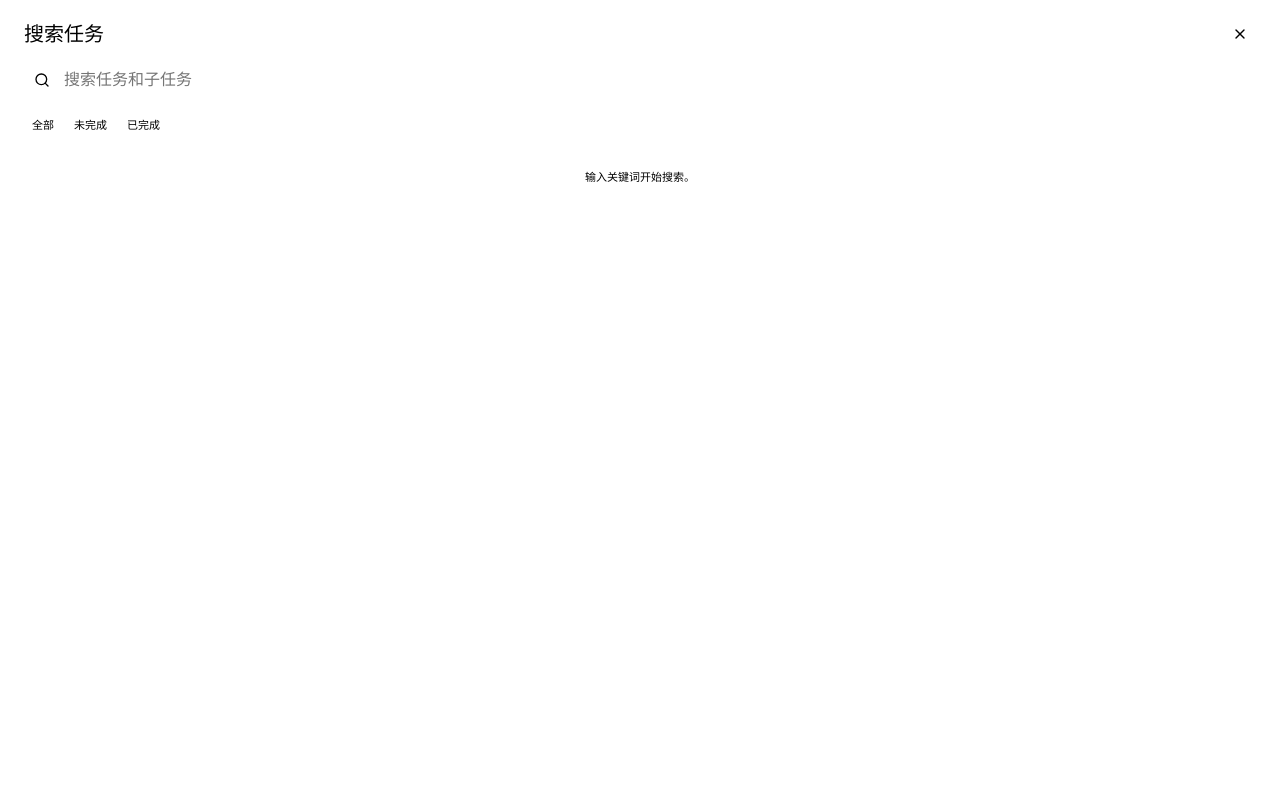
Test: TaskSearchDialog › filters matching results to unfinished work
The width and height of the screenshot is (1280, 800).
Type "工作" into the search field at (639, 80), box [62,70,1216,90]
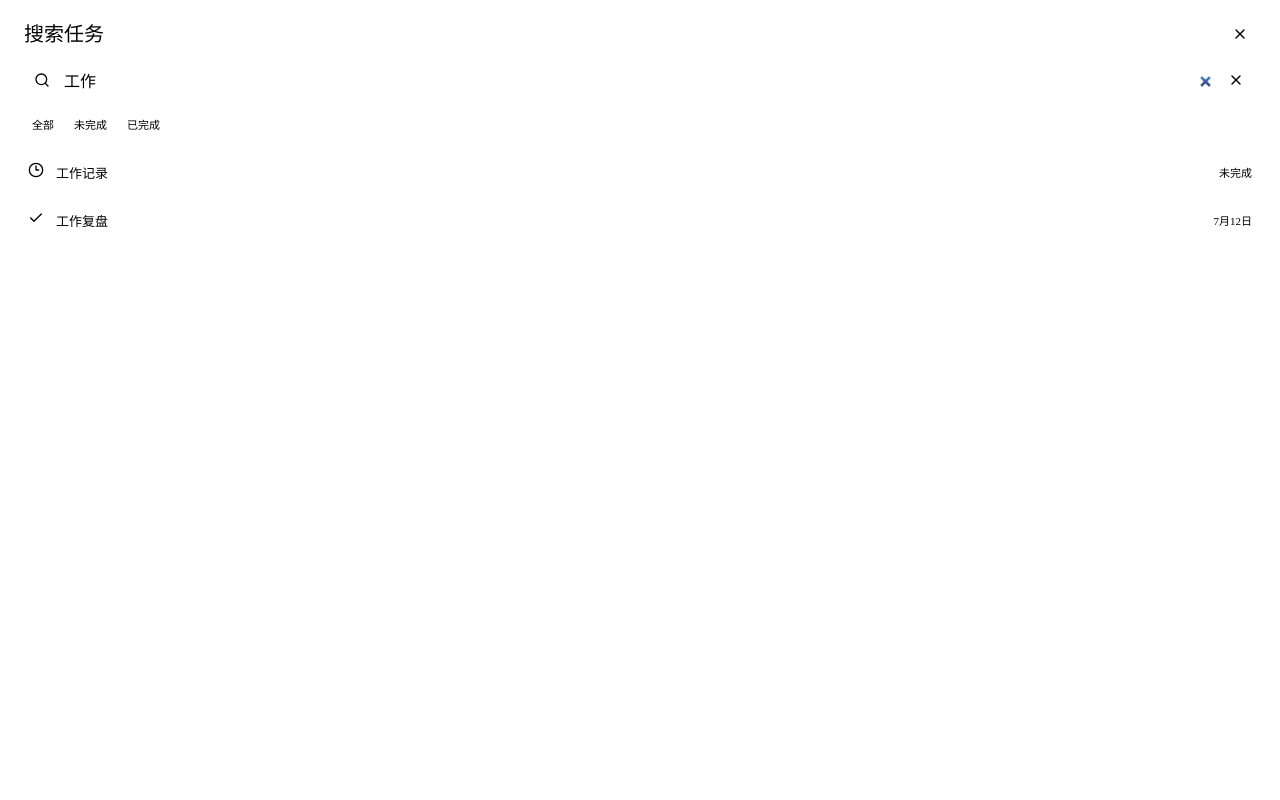
Click the button "未完成" at (90, 124), box [66,108,115,140]
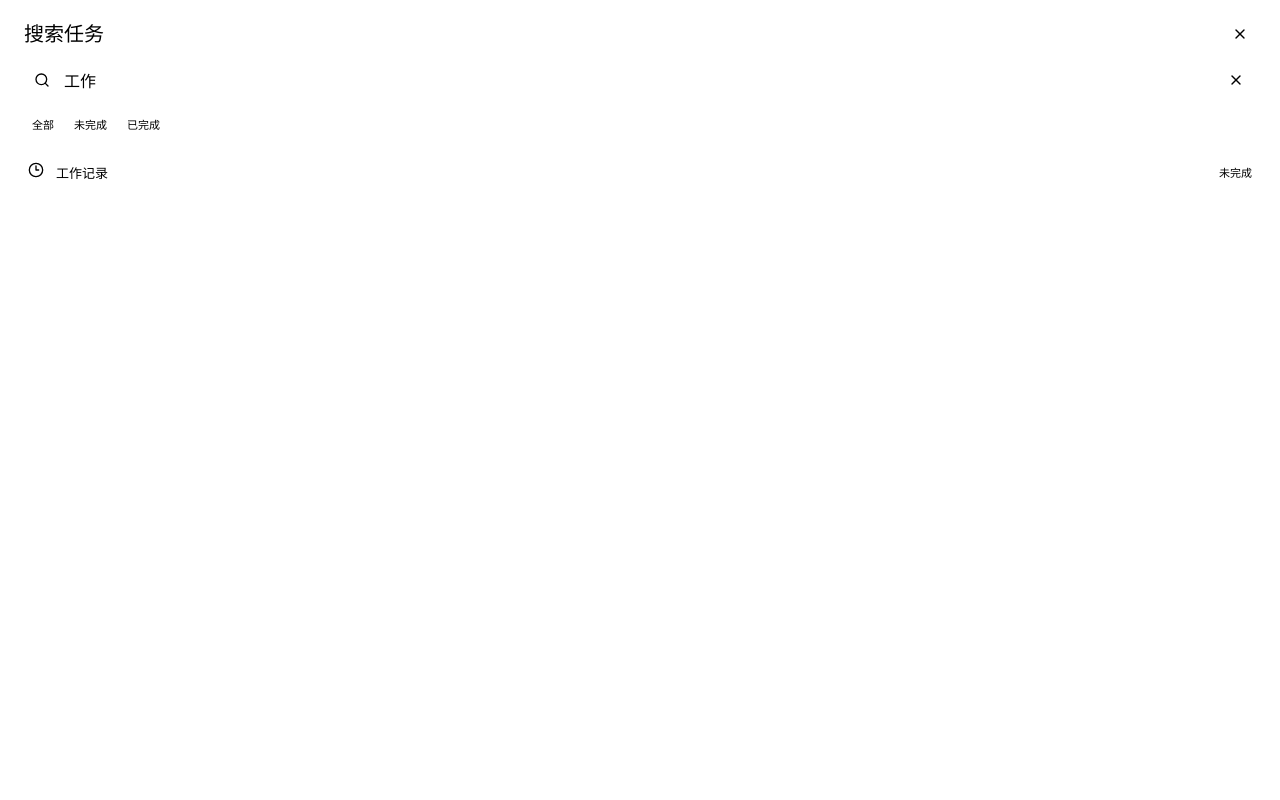
Expected: the text "工作记录" is shown, [56,166,108,180]
Expected: the button "工作复盘" is gone
